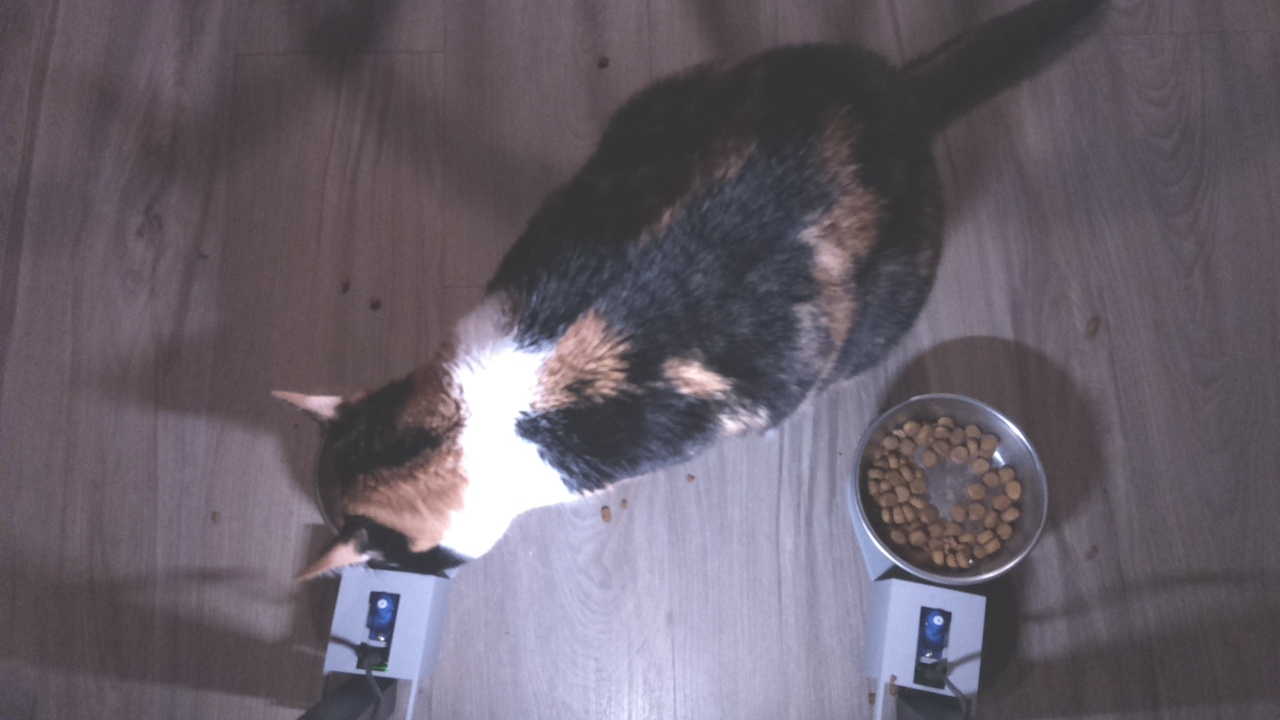bella_eating: (257, 348, 561, 613)
open_bowl: (849, 386, 1050, 590)
